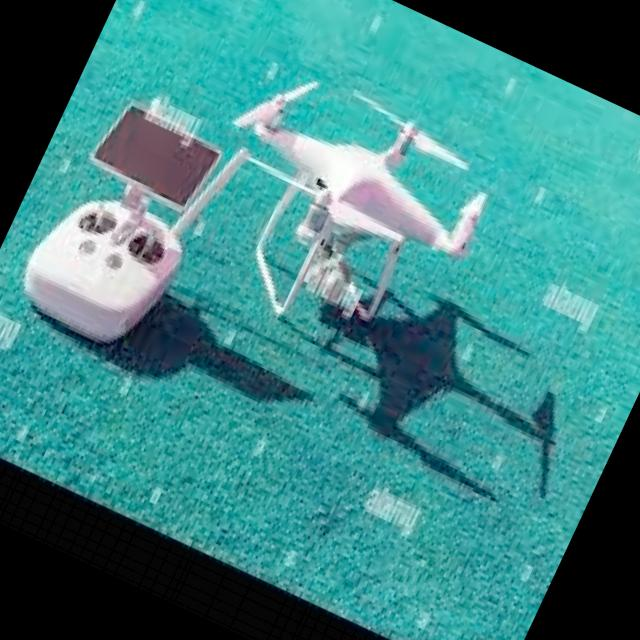drone: (160, 28, 528, 388)
